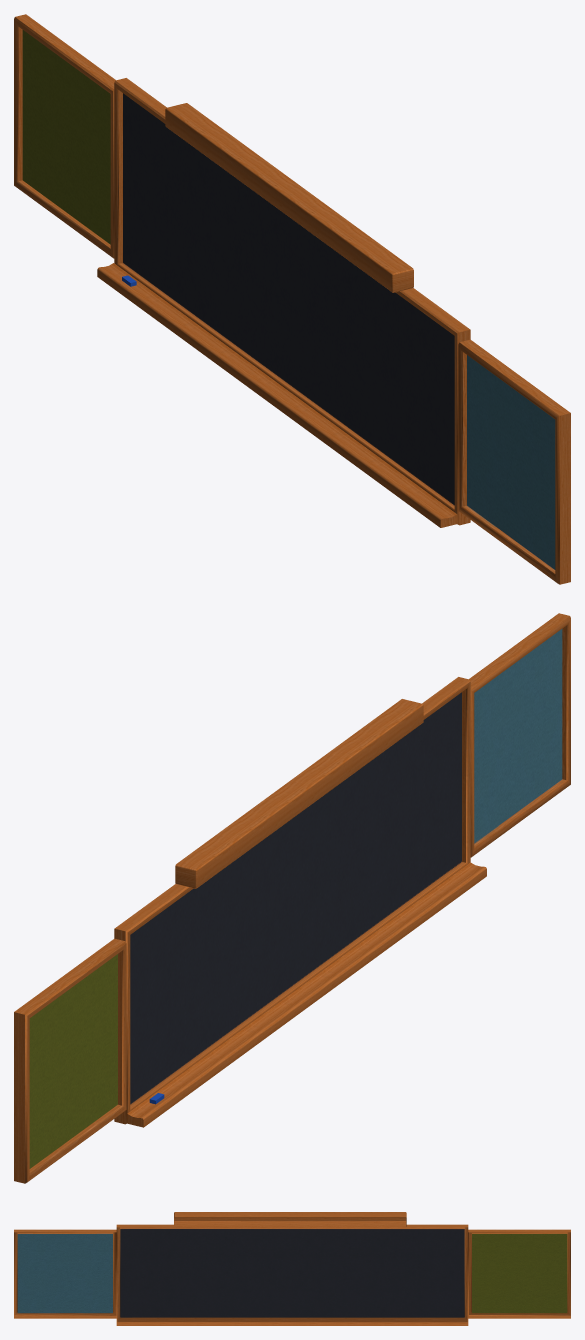
The model's file is Task_Board.fbx.
3 views of the same model, one above another, from view 1: azimuth 30°, elevation 25°; view 2: azimuth 150°, elevation 25°; view 3: azimuth 270°, elevation 25° (orthographic). The views are drawn at different scales.
Visible parts, largest first — view 1: Task_Board1; view 2: Task_Board1; view 3: Task_Board1.
Part boxes in pixels (left/top/right/bottom): Task_Board1: left=14, top=14, right=570, bottom=584; Task_Board1: left=14, top=613, right=570, bottom=1183; Task_Board1: left=14, top=1212, right=570, bottom=1325.
Bounding box in the file's own units: 22.7 × 158 × 732.
Materials: 1 (1 with a texture image).
